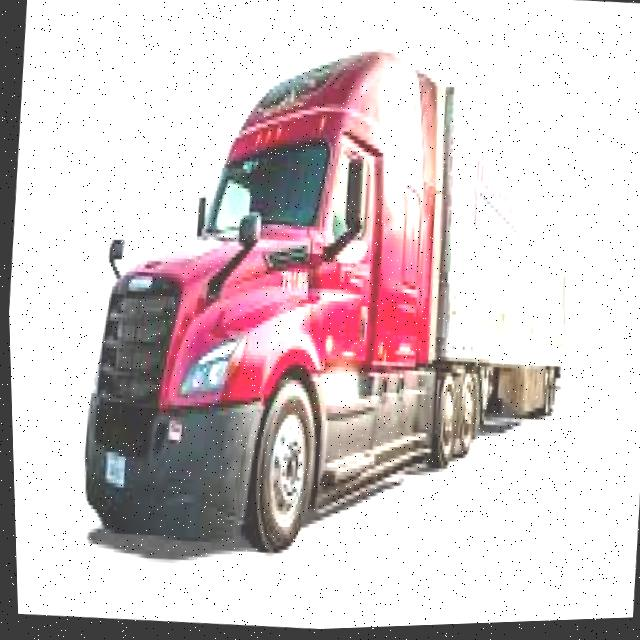truck: (65, 16, 592, 590)
